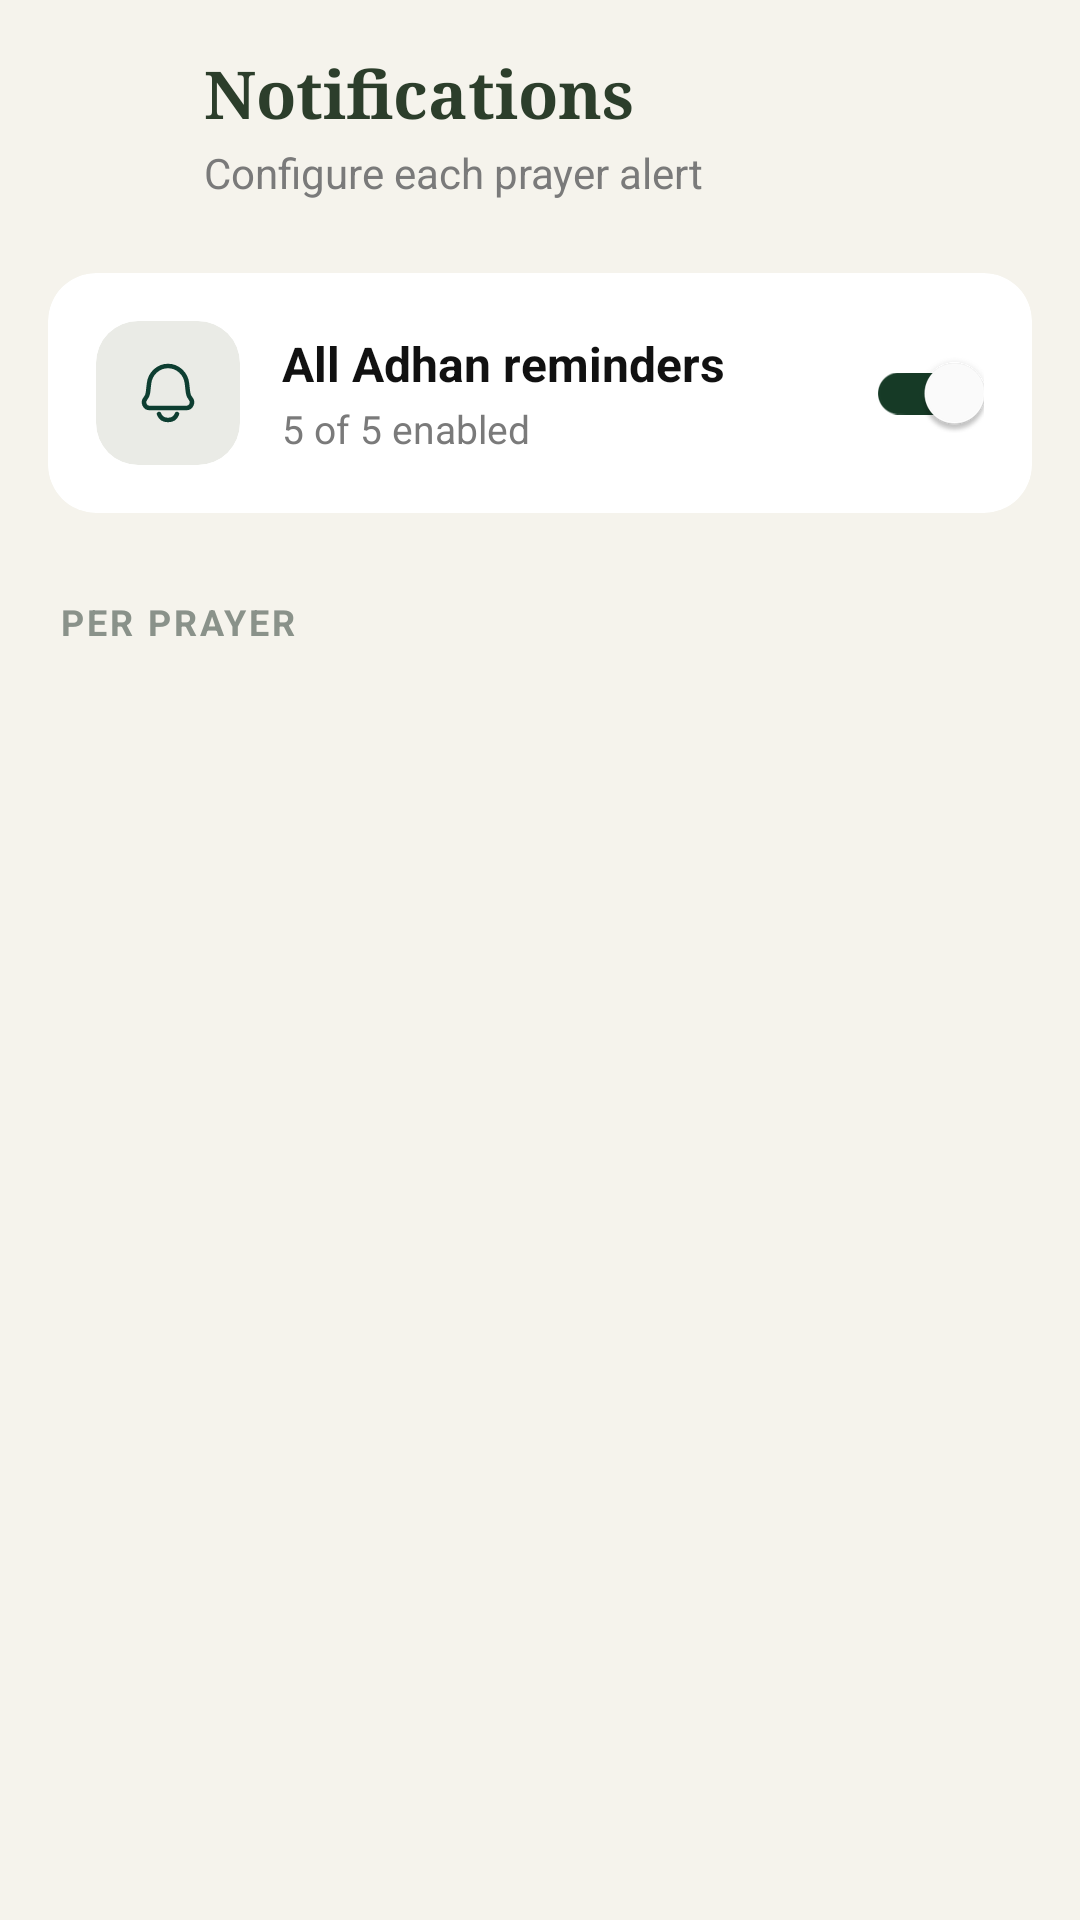

Where icons sit on this 1080*1920 app screen, as detection(x1, y1, x2, y2):
notification: detection(141, 363, 195, 423)
